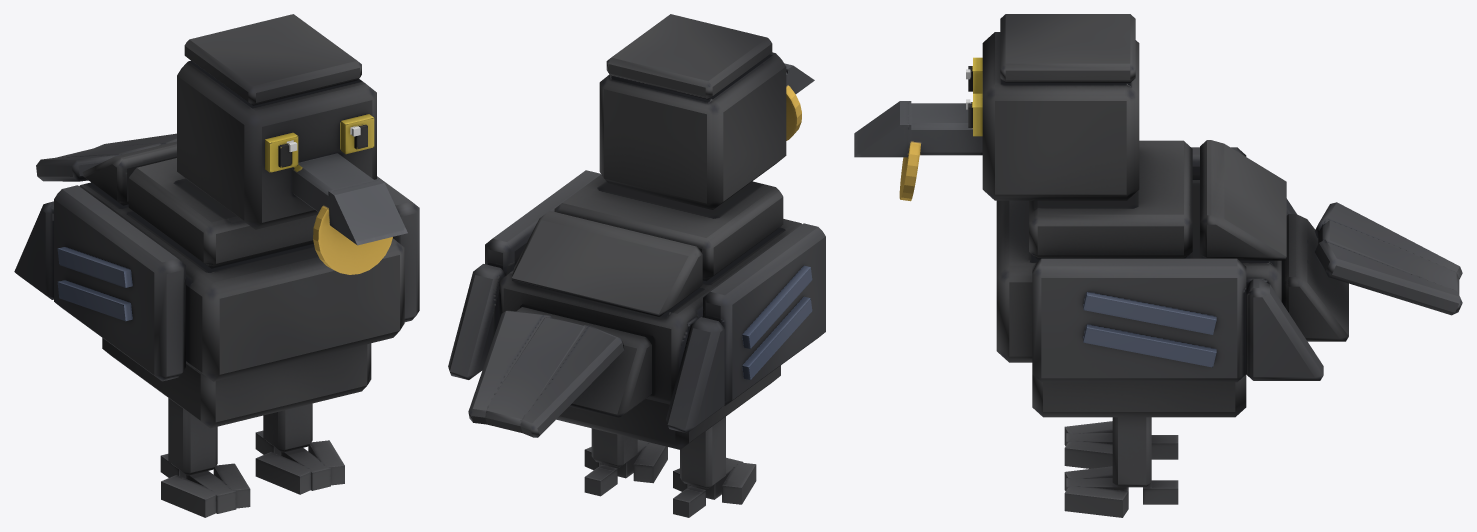
File: CorbeauVoleur_Rig.fbx
3 views of the same model, side by side, from view 1: azimuth 30°, elevation 25°; view 2: azimuth 150°, elevation 25°; view 3: azimuth 270°, elevation 25° (orthographic). The views are drawn at different scales.
Visible parts, largest first — view 1: Body, Head, WingR, LegR, LegL, Tail, WingL; view 2: Body, Head, WingR, Tail, WingL, LegR, LegL; view 3: Body, Head, WingL, Tail, LegL, LegR.
Part boxes in pixels (x1=…): Body: x1=79, y1=141, x2=404, y2=428; Head: x1=177, y1=14, x2=407, y2=274; WingR: x1=14, y1=185, x2=185, y2=381; LegR: x1=160, y1=398, x2=250, y2=517; LegL: x1=255, y1=403, x2=344, y2=494; Tail: x1=36, y1=133, x2=176, y2=181; WingL: x1=377, y1=176, x2=419, y2=322; Body: x1=499, y1=174, x2=802, y2=449; Head: x1=599, y1=14, x2=814, y2=209; WingR: x1=666, y1=223, x2=825, y2=433; Tail: x1=468, y1=310, x2=624, y2=437; WingL: x1=448, y1=170, x2=600, y2=379; LegR: x1=673, y1=417, x2=756, y2=517; LegL: x1=584, y1=428, x2=667, y2=496; Body: x1=996, y1=140, x2=1348, y2=417; Head: x1=854, y1=14, x2=1139, y2=201; WingL: x1=1032, y1=258, x2=1323, y2=382; Tail: x1=1314, y1=202, x2=1462, y2=315; LegL: x1=1064, y1=417, x2=1178, y2=517; LegR: x1=1064, y1=421, x2=1178, y2=468.
Bounding box in the file's own units: 3.9 × 6 × 7.53.
Materials: 1 (1 with a texture image).
